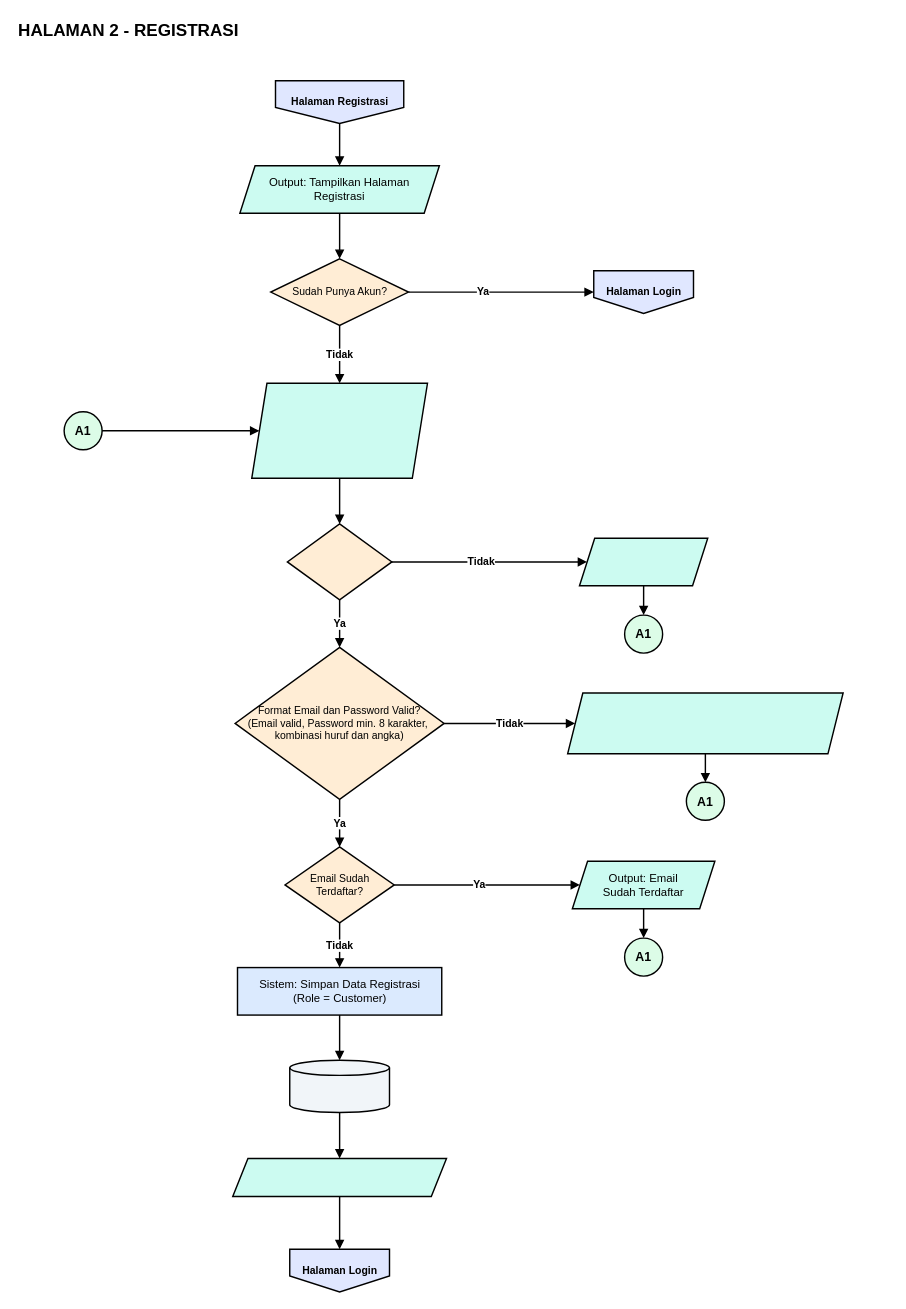
This 906x1309 diagram has some shape labels left out. Here are the shapes that lost their labels. From the top down, the centre of each, then its label:
point (339, 430): Input Data Registrasi • Nama • Email • No. Telepon • Password
point (339, 561): Semua Data Terisi?
point (643, 561): Output: Data Belum Lengkap
point (704, 723): Output: Format Email atau Password Tidak Sesuai
point (339, 1086): Tabel Pengguna
point (339, 1177): Output: Registrasi Berhasil
